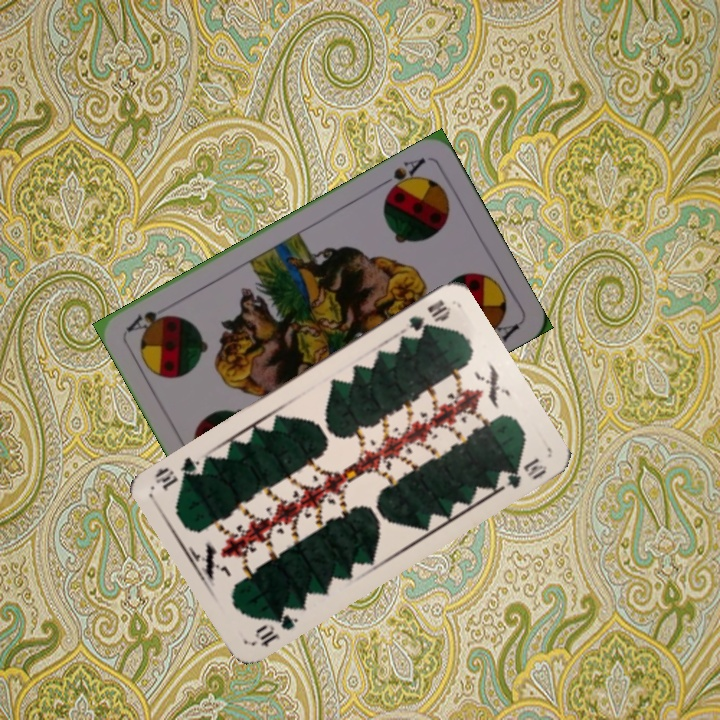G10: (250, 608, 301, 650), (404, 295, 454, 334)
SA: (375, 153, 429, 198)
